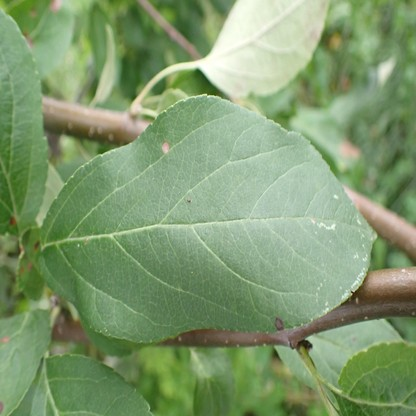frogeye_leaf_spot: (49, 1, 60, 11), (275, 319, 284, 330), (0, 335, 10, 344), (162, 142, 169, 152), (9, 216, 15, 223)
